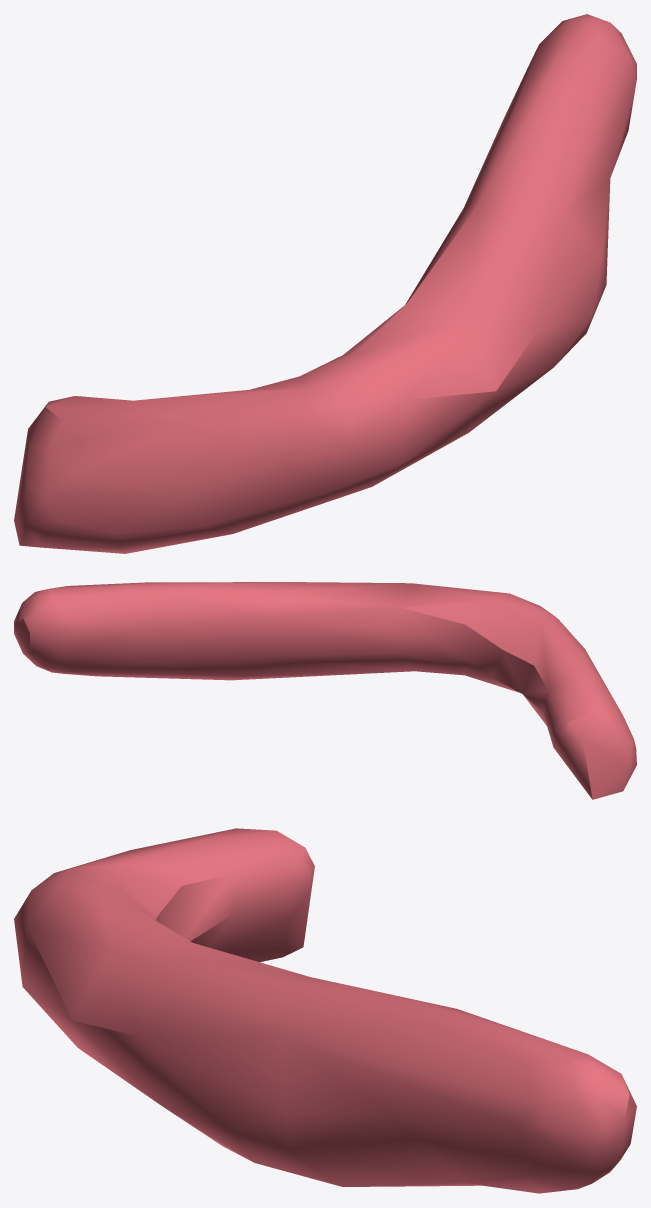
File: fma14805_fj3446.glb
The picture shows the model from 3 angles, top to bottom: view 1: azimuth 30°, elevation 25°; view 2: azimuth 150°, elevation 25°; view 3: azimuth 270°, elevation 25°; orthographic projection. The views are drawn at different scales.
Visible parts, largest first — view 1: FMA14805_FJ3446; view 2: FMA14805_FJ3446; view 3: FMA14805_FJ3446.
Boxes of the visible parts, x1,y1,x2,y2 form: FMA14805_FJ3446: (14,14,636,553); FMA14805_FJ3446: (14,582,636,799); FMA14805_FJ3446: (14,828,636,1193).
Bounding box in the file's own units: 0.0153 × 0.00467 × 0.00991.
